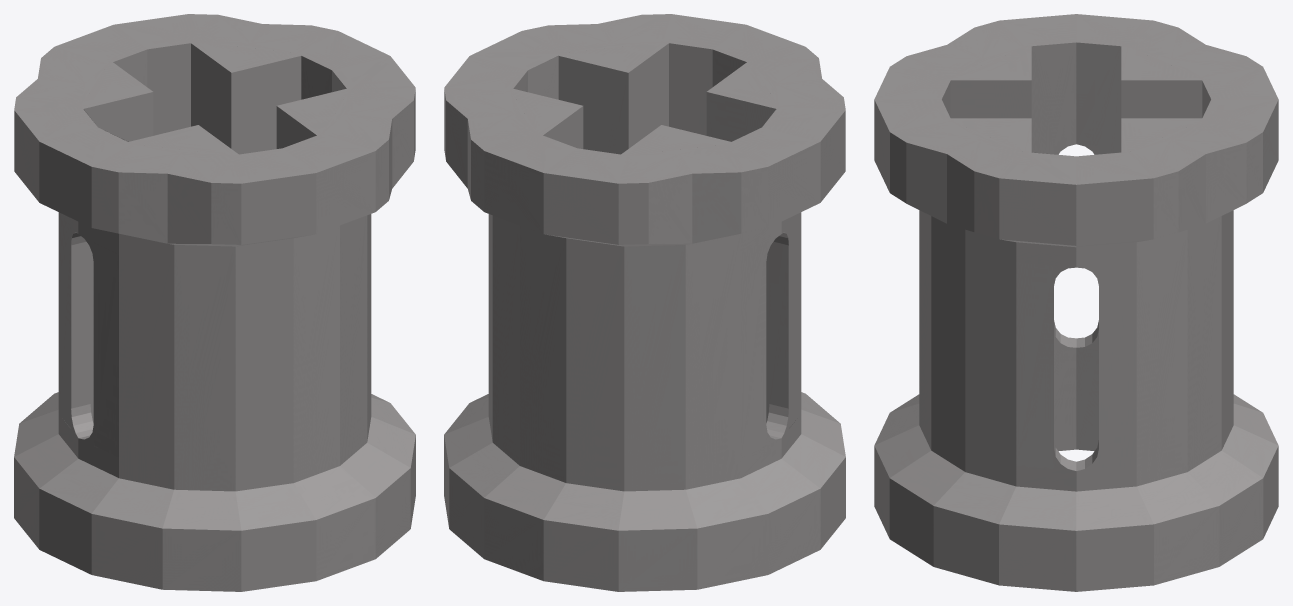
3 views of the same model, side by side, from view 1: azimuth 30°, elevation 25°; view 2: azimuth 150°, elevation 25°; view 3: azimuth 270°, elevation 25° (orthographic).
Visible parts, largest first — view 1: node; view 2: node; view 3: node.
Part boxes in pixels (x1,y1,x2,y2): node: (14,14,415,591); node: (444,14,845,591); node: (874,14,1278,591).
Size of the model in its own units: 18 by 20 by 18.
Materials: 1 (1 with a texture image).
